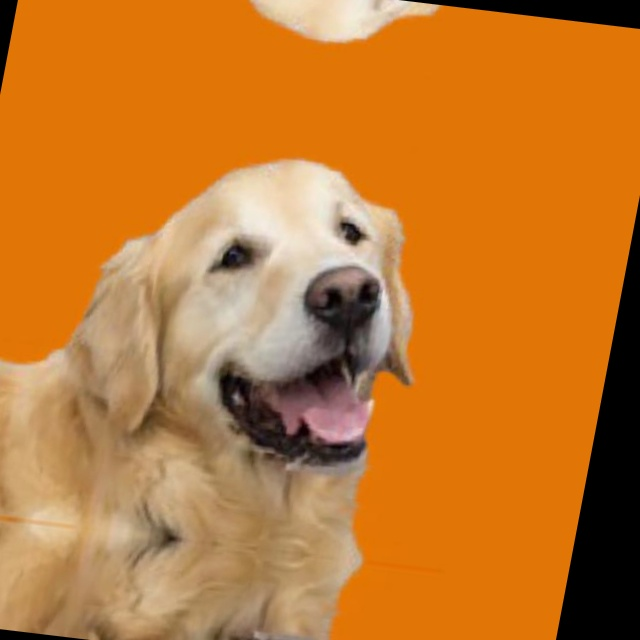dog: (44, 115, 493, 514), (125, 0, 520, 85), (13, 576, 405, 640)
